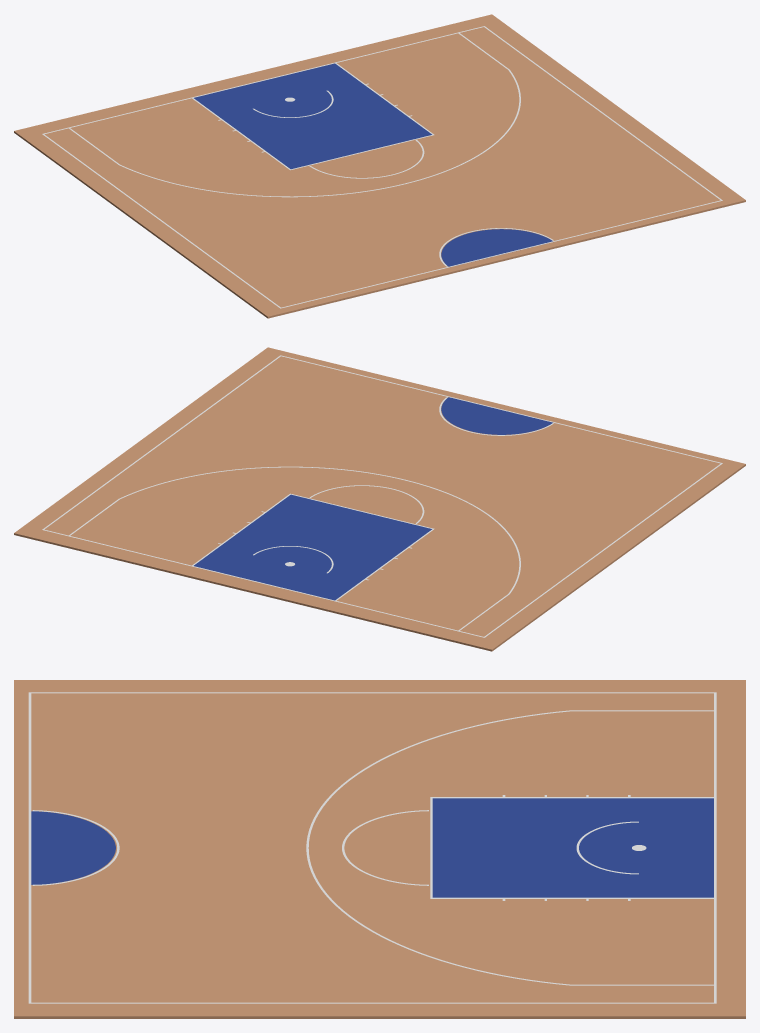
The model's file is vinish-half-court.glb.
The picture shows the model from 3 angles, top to bottom: view 1: azimuth 30°, elevation 25°; view 2: azimuth 150°, elevation 25°; view 3: azimuth 270°, elevation 25°; orthographic projection. The views are drawn at different scales.
Visible parts, largest first — view 1: Half_Court; view 2: Half_Court; view 3: Half_Court.
Boxes of the visible parts, x1,y1,x2,y2 form: Half_Court: [14, 14, 745, 318]; Half_Court: [14, 347, 745, 651]; Half_Court: [14, 680, 745, 1018].
Size of the model in its own units: 16.2 by 0.0633 by 14.9.
